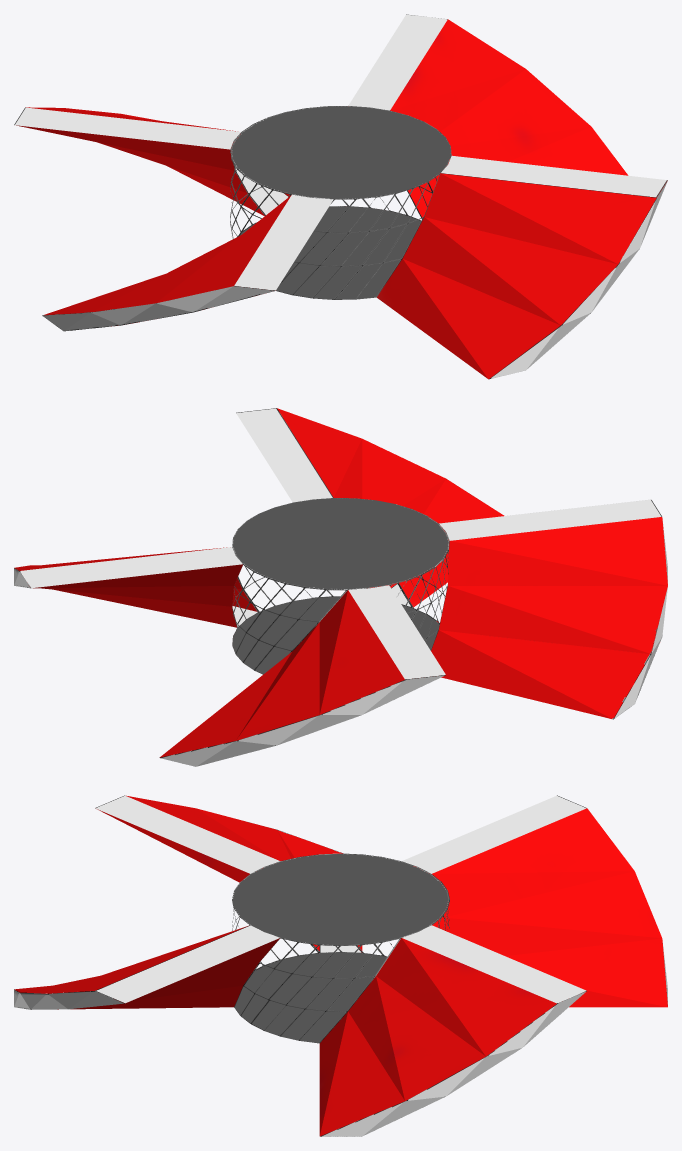
The model's file is fan.dae.
3 renders of one model, top to bottom at view 1: azimuth 30°, elevation 25°; view 2: azimuth 150°, elevation 25°; view 3: azimuth 270°, elevation 25°, orthographic.
Visible parts, largest first — view 1: Circle; view 2: Circle; view 3: Circle.
Part boxes in pixels (box(x1,y1,x2,y2)): Circle: box(14, 14, 667, 379); Circle: box(14, 408, 667, 766); Circle: box(14, 795, 667, 1136).
Size of the model in its own units: 0.03 by 0.03 by 0.005.
Materials: 1 (1 with a texture image).
